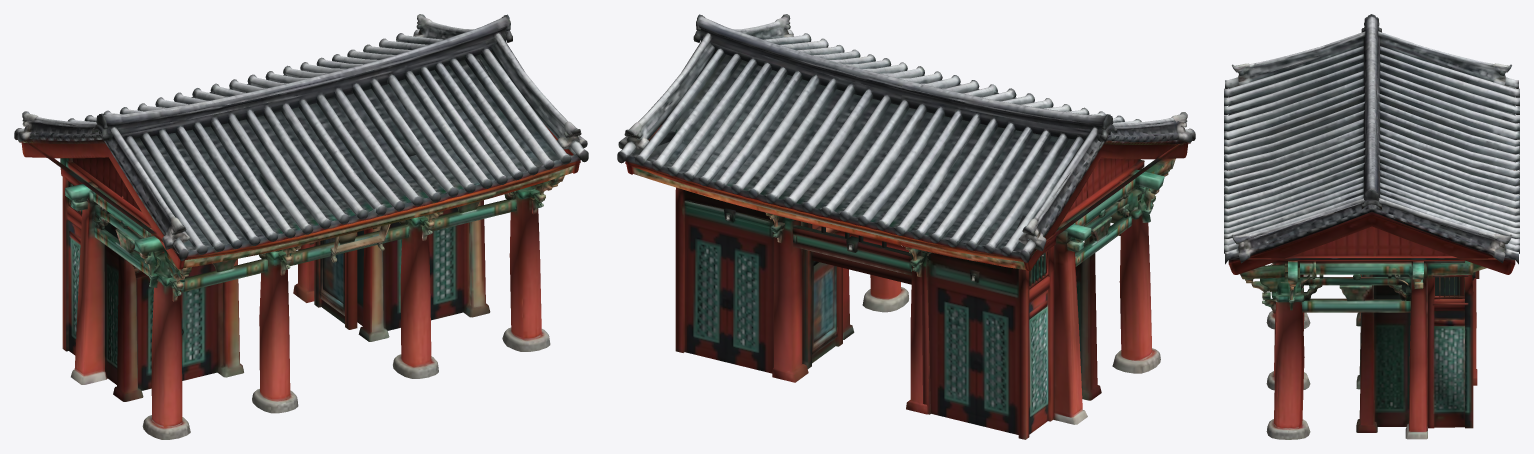
The model's file is door-b0b2832a0d.glb.
3 renders of one model, left to right at view 1: azimuth 30°, elevation 25°; view 2: azimuth 150°, elevation 25°; view 3: azimuth 270°, elevation 25°, orthographic. The views are drawn at different scales.
Parts seen in each view (by area): view 1: tripo_node_5cede933-9788-460a-8bda-76f87d940dd8; view 2: tripo_node_5cede933-9788-460a-8bda-76f87d940dd8; view 3: tripo_node_5cede933-9788-460a-8bda-76f87d940dd8.
Boxes of the visible parts, bbox=[...] form: tripo_node_5cede933-9788-460a-8bda-76f87d940dd8: bbox=[14, 14, 588, 439]; tripo_node_5cede933-9788-460a-8bda-76f87d940dd8: bbox=[617, 14, 1195, 439]; tripo_node_5cede933-9788-460a-8bda-76f87d940dd8: bbox=[1224, 14, 1519, 439].
Size of the model in its own units: 0.9995 by 0.648 by 0.6841.
Materials: 1 (1 with a texture image).
